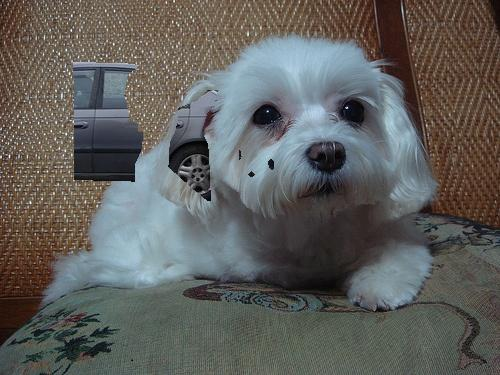tampered: (74, 63, 274, 201)
